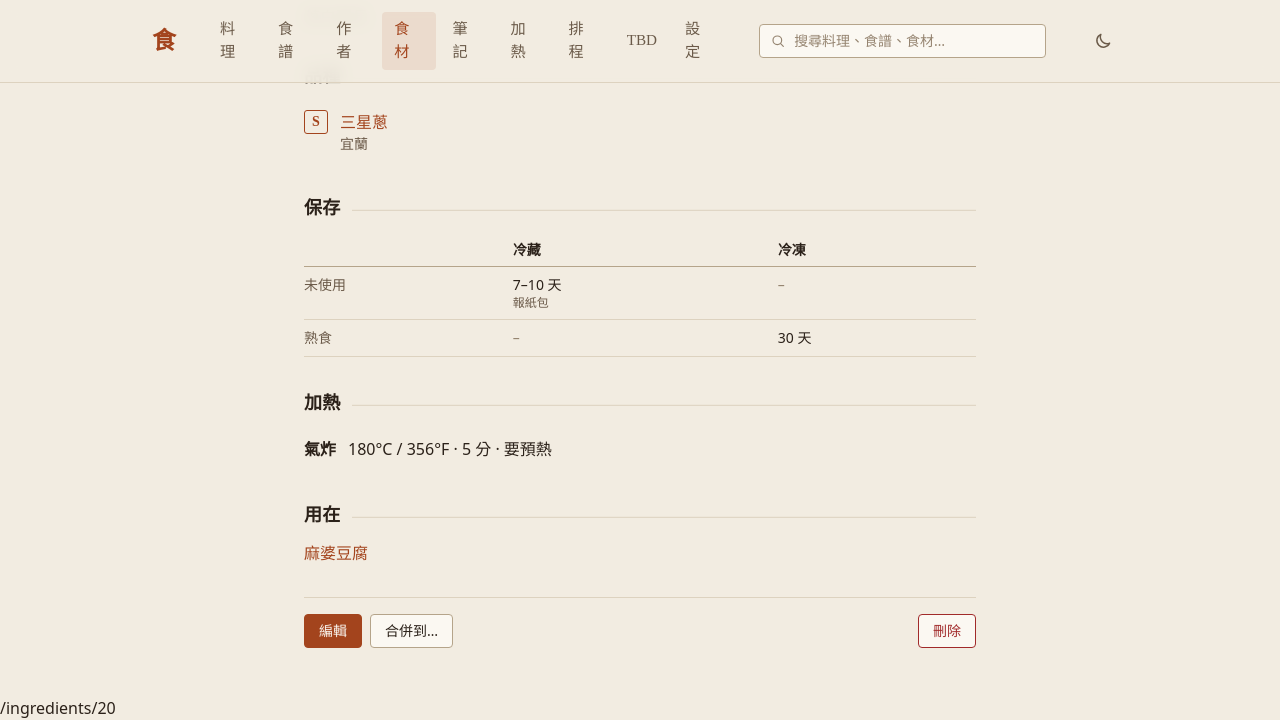
Scenario: the ingredient page › merges with the preview’s fingerprint, re-asks on a stale preview, then goes to the target
(page scrolled)
Click the button "合併到…": (412, 631) [370,614,453,648]
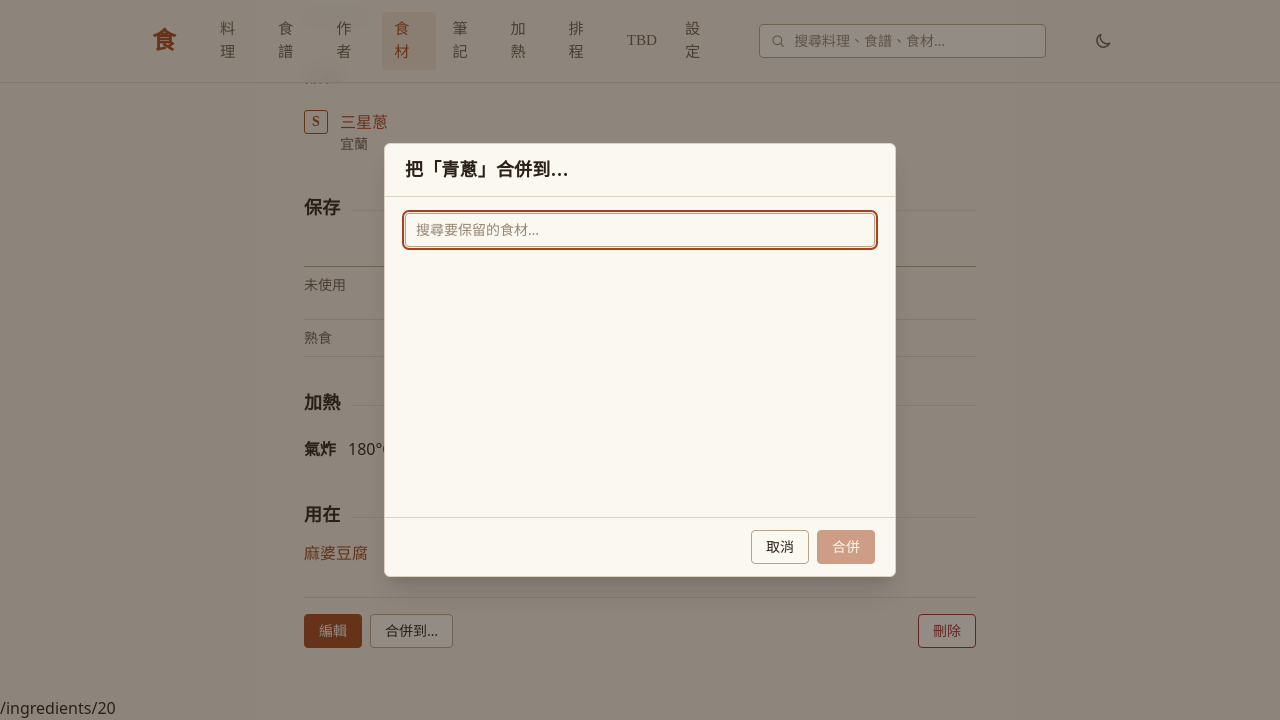
In the dropdown: (640, 230) [405,213,875,247], type "大"
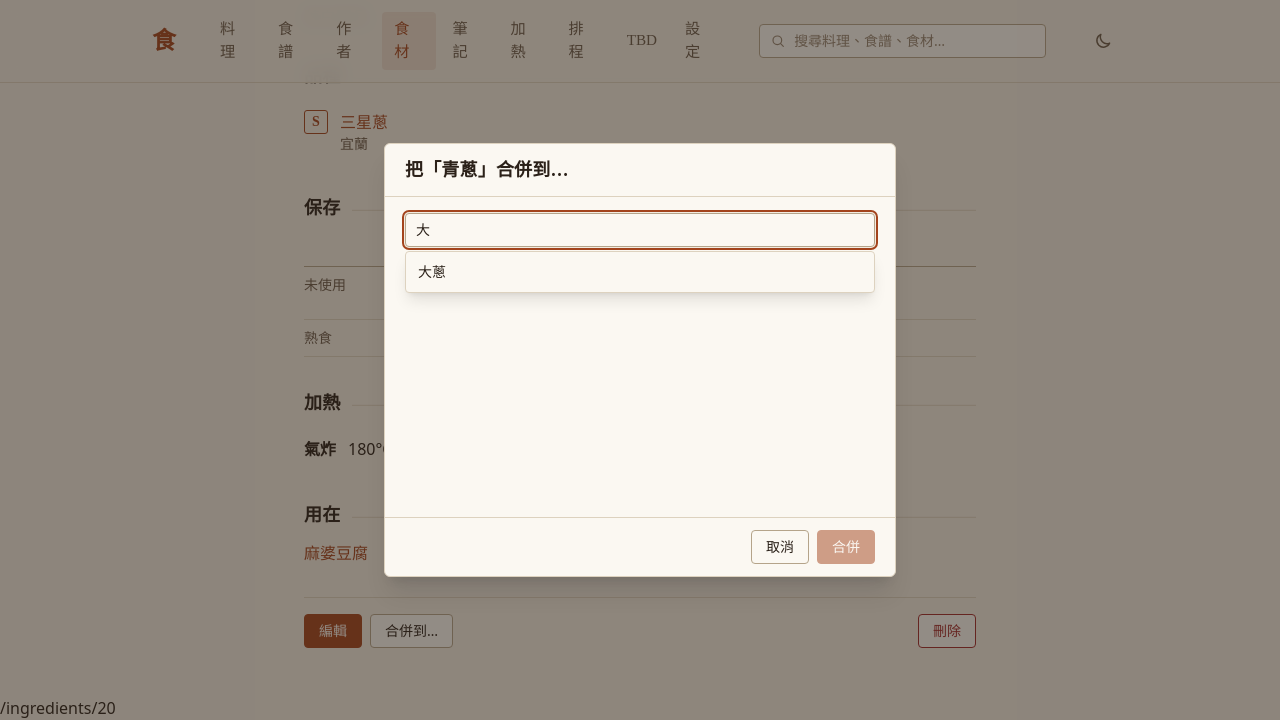
Click the option "大蔥": (432, 272) [418,262,446,281]
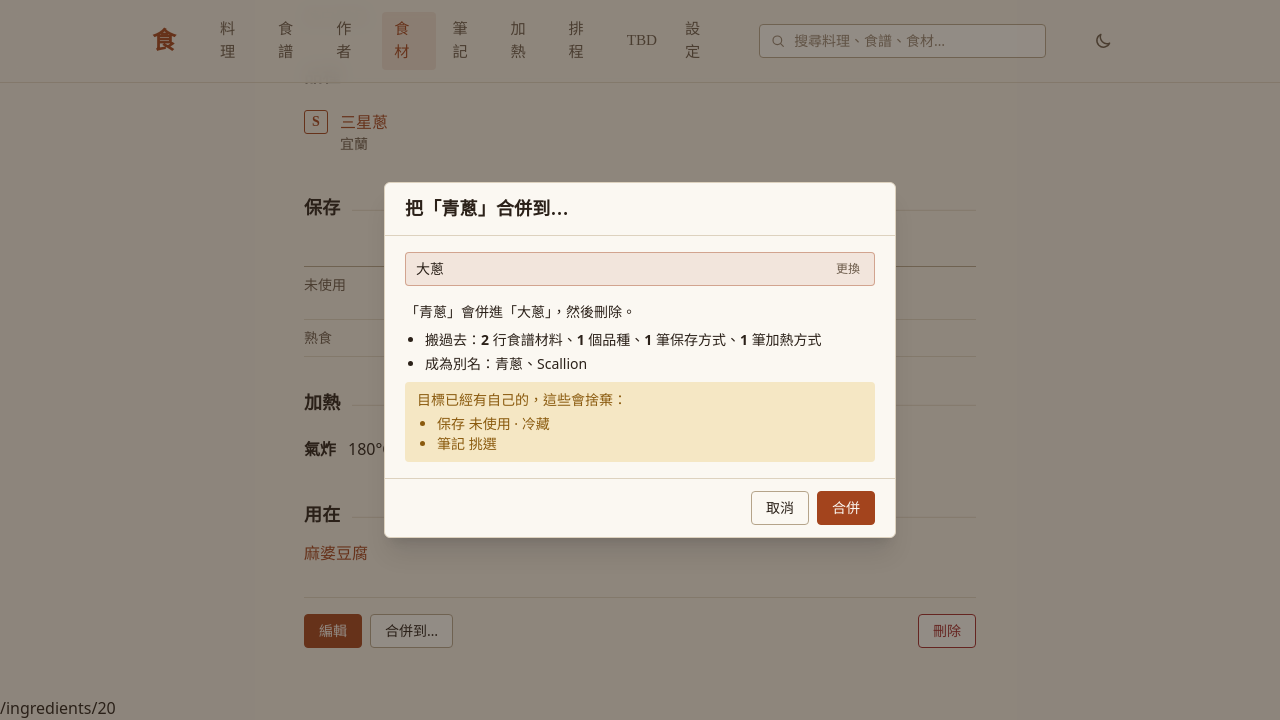
Now the list item "成為別名：青蔥、Scallion" is shown, box [425,354,587,373]
Now the dialog shows "保存 未使用 · 冷藏", box [384,182,896,538]
Now the dialog shows "筆記 挑選", box [384,182,896,538]
Click the button "合併": (846, 508) [817,491,875,525]
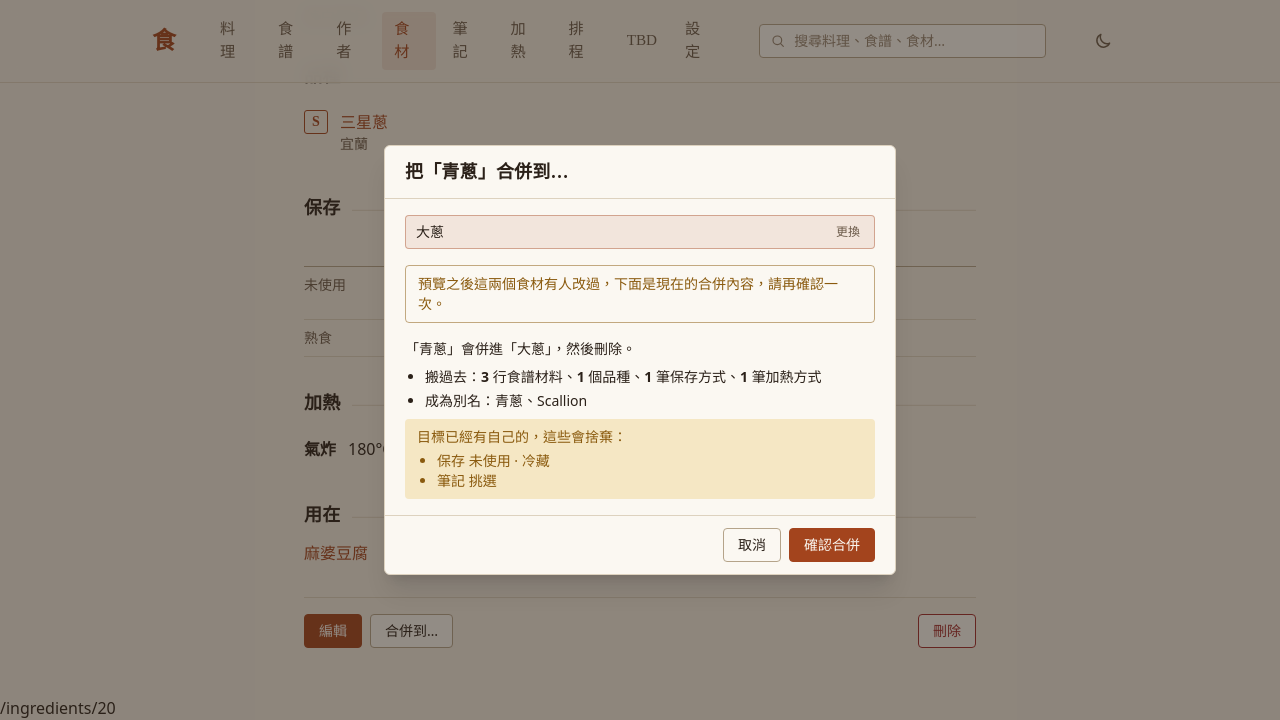
Now the text "預覽之後這兩個食材有人改過，下面是現在的合併內容，請再確認一次。" is shown, box [405,265,875,323]
Click the button "確認合併": (832, 545) [789,528,875,562]
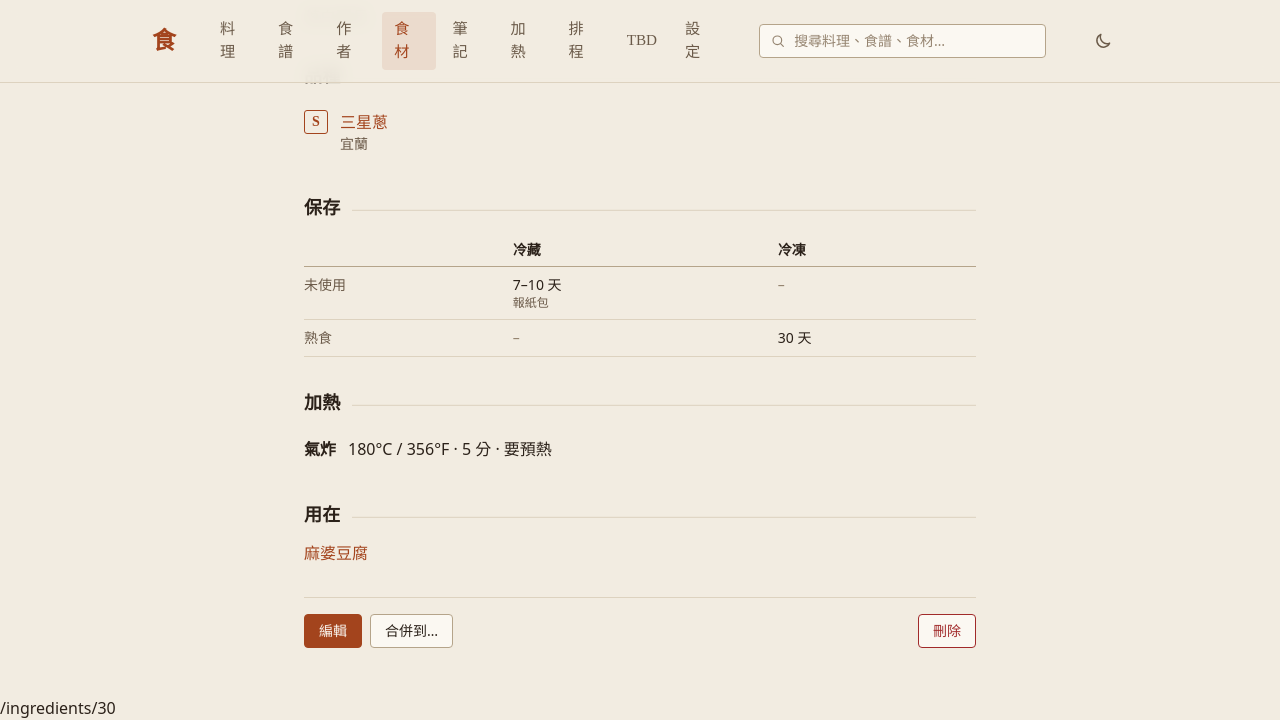
Now the text with test id "location" reads "/ingredients/30", box [0,697,116,719]
